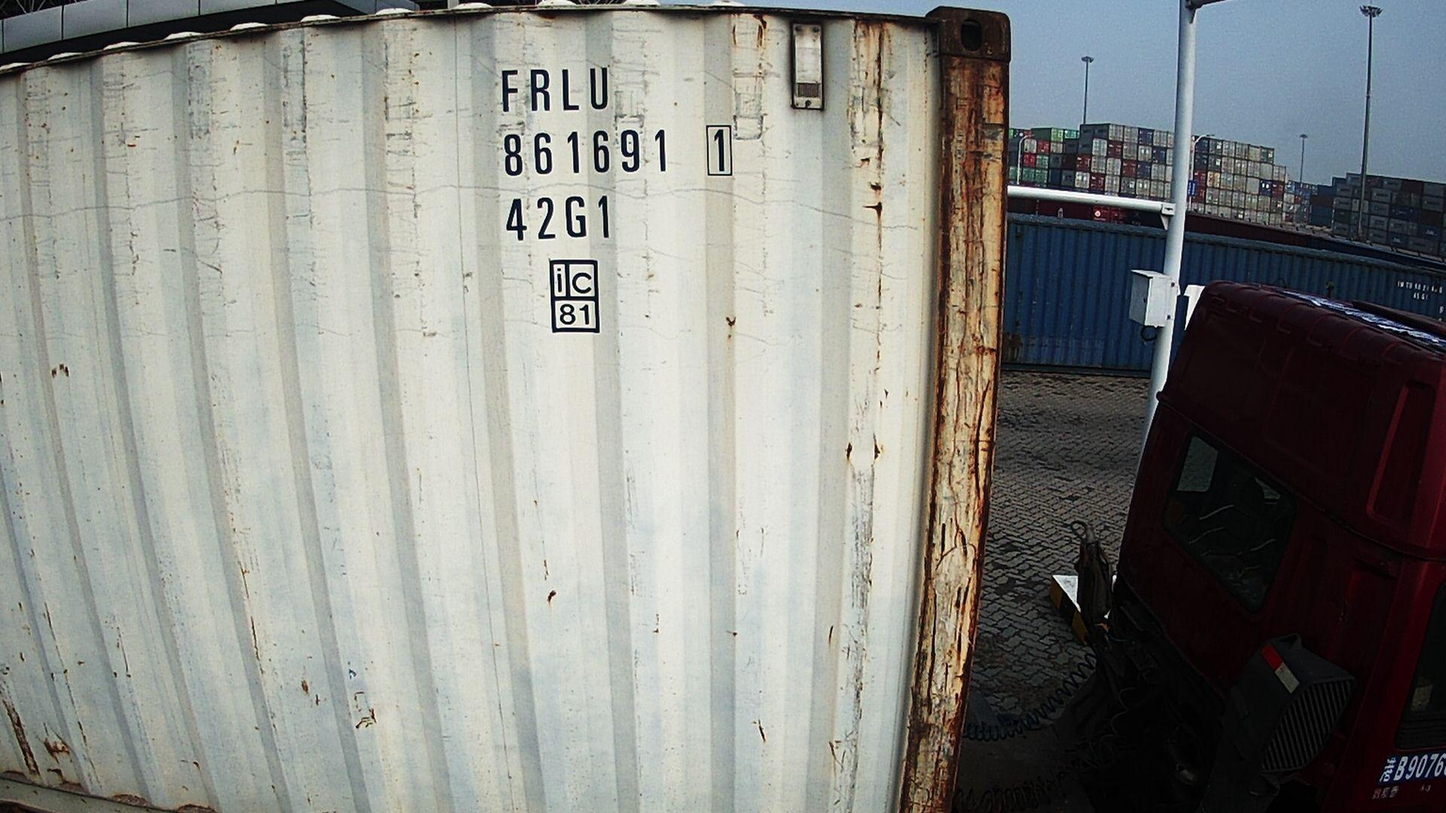container-numbers: (498, 123, 738, 181), (496, 62, 614, 117), (501, 192, 618, 244)
